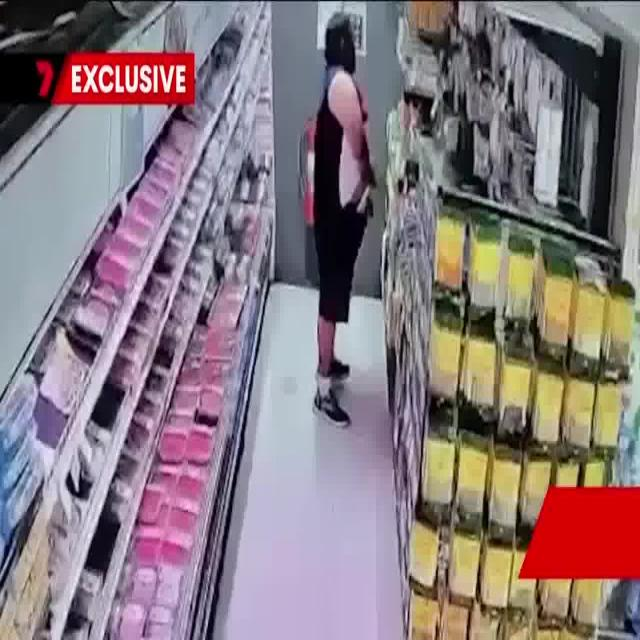persone: (306, 3, 379, 460)
